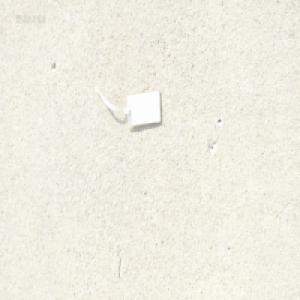LuggageTag: (91, 73, 163, 130)
